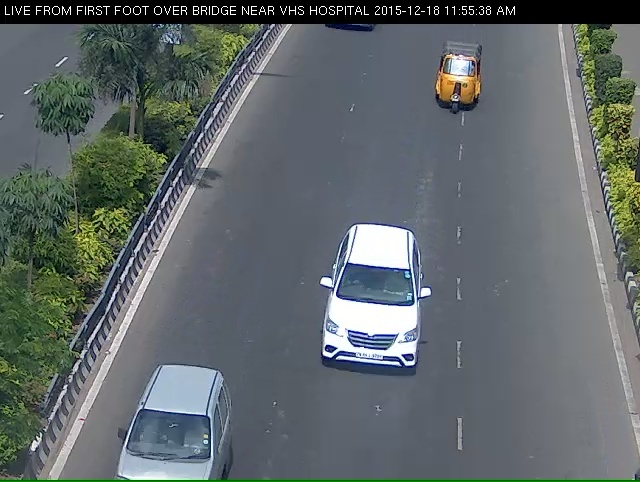Auto: (420, 37, 491, 126)
Car: (303, 233, 442, 418), (87, 387, 233, 482)
